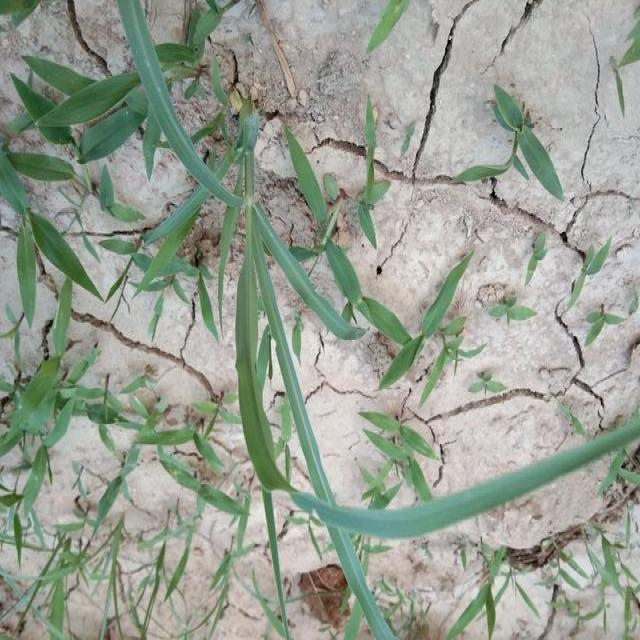weed: (104, 3, 368, 640), (0, 67, 115, 630), (370, 443, 640, 531), (370, 292, 472, 389), (482, 100, 564, 210)
